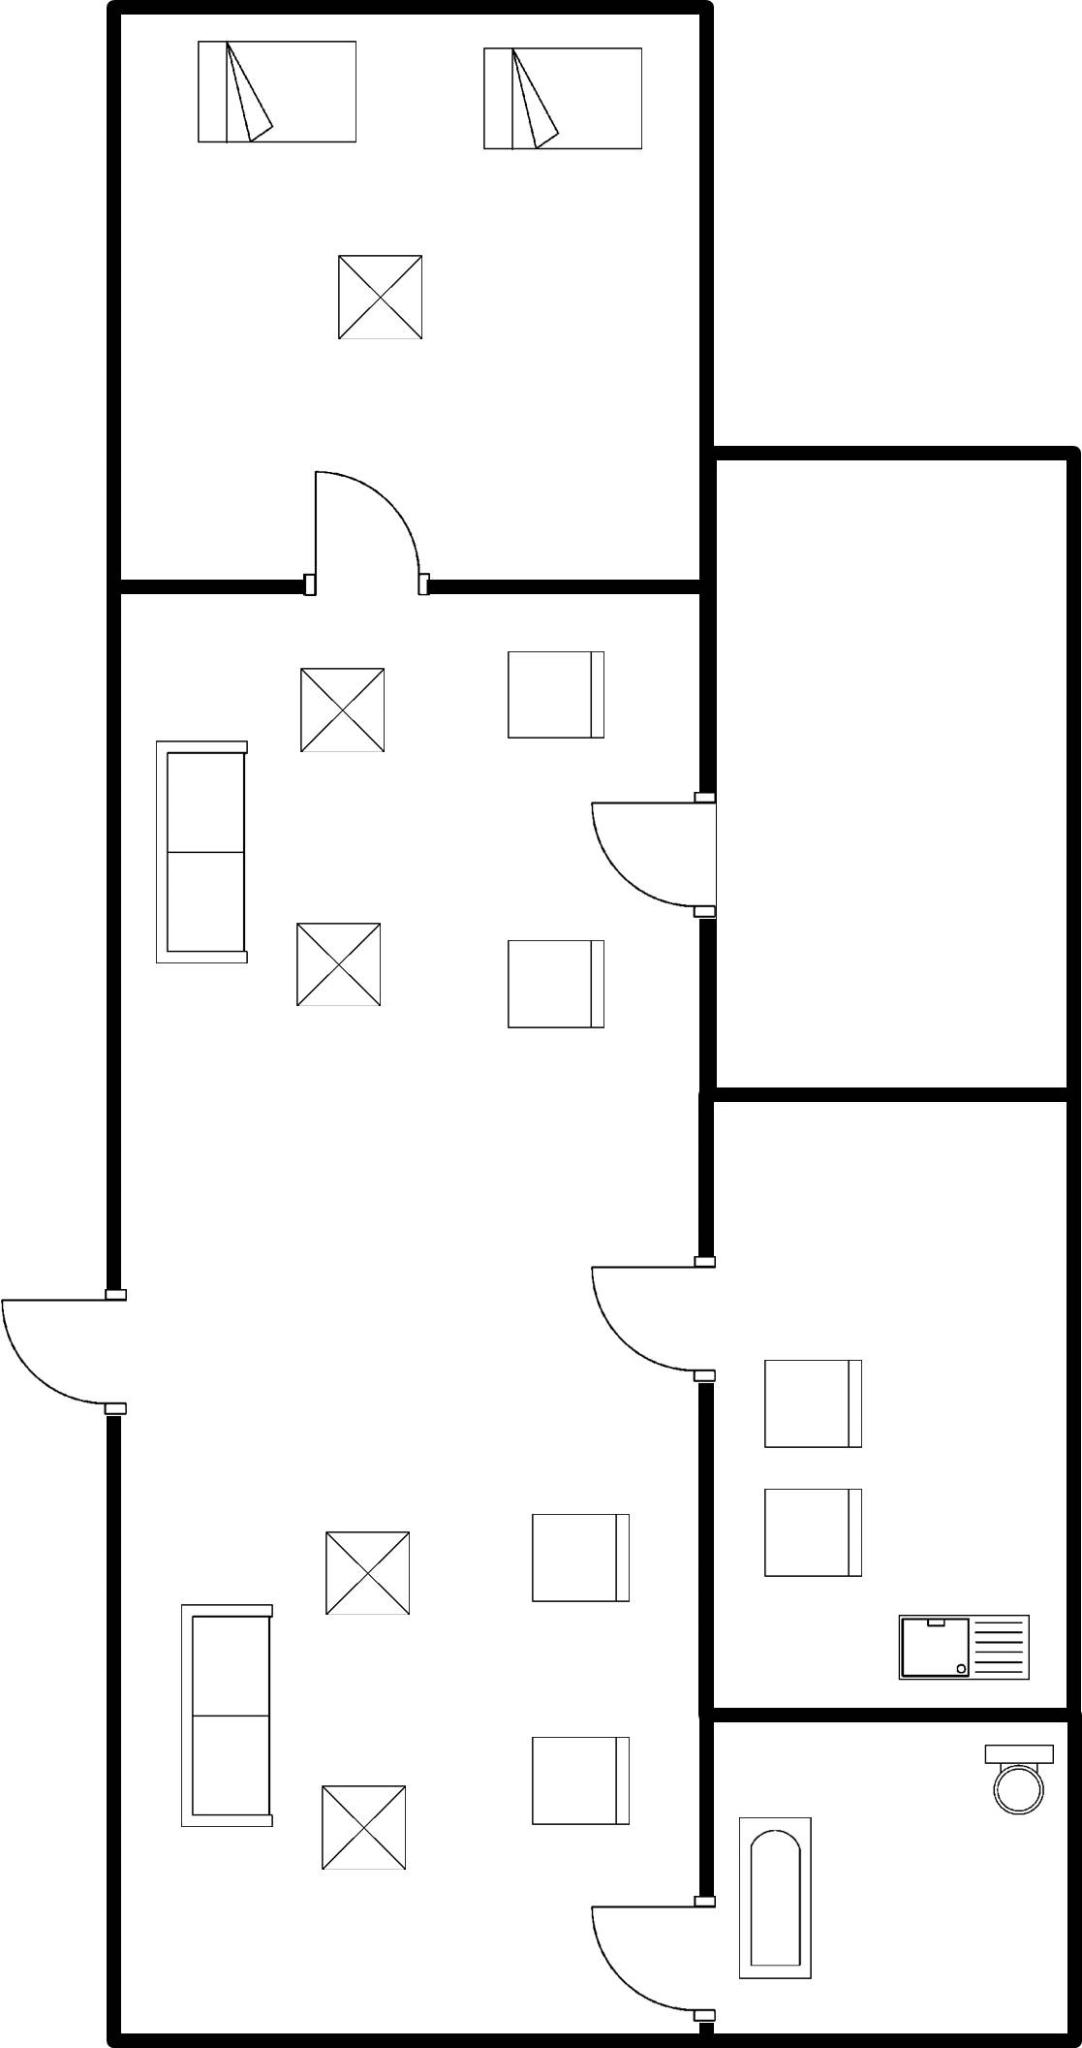bed: (466, 30, 658, 163), (186, 28, 367, 156)
sink: (886, 1601, 1041, 1692)
sofa: (137, 726, 261, 974), (163, 1590, 282, 1842)
toilet: (970, 1731, 1059, 1825)
tub: (727, 1804, 823, 1998)
